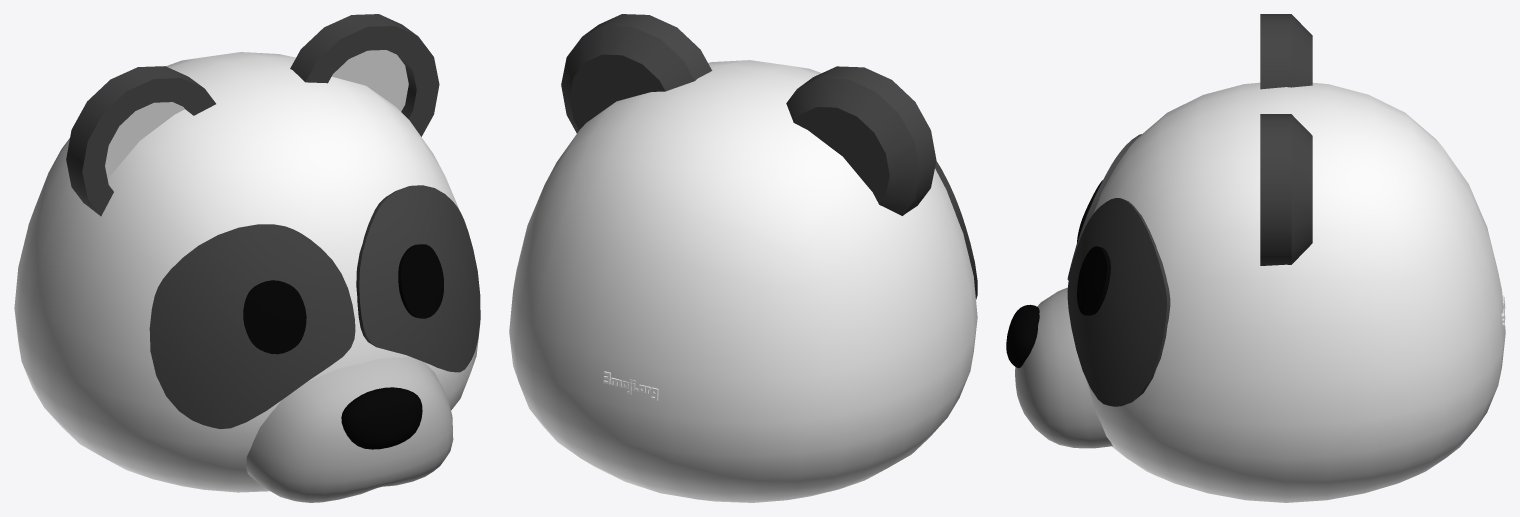
Rendered from panda.glb.
3 renders of one model, left to right at view 1: azimuth 30°, elevation 25°; view 2: azimuth 150°, elevation 25°; view 3: azimuth 270°, elevation 25°, orthographic. The views are drawn at different scales.
Visible parts, largest first — view 1: Cube.6260, Circle.1928, Cylinder.365, Cube.6261, Circle.1927, Cube.6263; view 2: Cube.6260, Cylinder.365, Circle.1928; view 3: Cube.6260, Circle.1928, Cylinder.365, Cube.6261, Circle.1927, Cube.6263.
Part boxes in pixels (box(x1,y1,x2,y2)): Cube.6260: box(14, 52, 480, 492); Circle.1928: box(149, 185, 480, 429); Cylinder.365: box(66, 14, 439, 216); Cube.6261: box(246, 357, 453, 502); Circle.1927: box(243, 244, 443, 354); Cube.6263: box(341, 387, 422, 449); Cube.6260: box(509, 60, 977, 502); Cylinder.365: box(561, 14, 936, 215); Circle.1928: box(935, 161, 977, 299); Cube.6260: box(1086, 82, 1505, 502); Circle.1928: box(1067, 134, 1170, 406); Cylinder.365: box(1260, 14, 1312, 265); Cube.6261: box(1015, 287, 1112, 448); Circle.1927: box(1077, 180, 1110, 315); Cube.6263: box(1006, 304, 1039, 368).
Size of the model in its own units: 2.41 by 2.41 by 2.75.
Materials: 1 (1 with a texture image).
